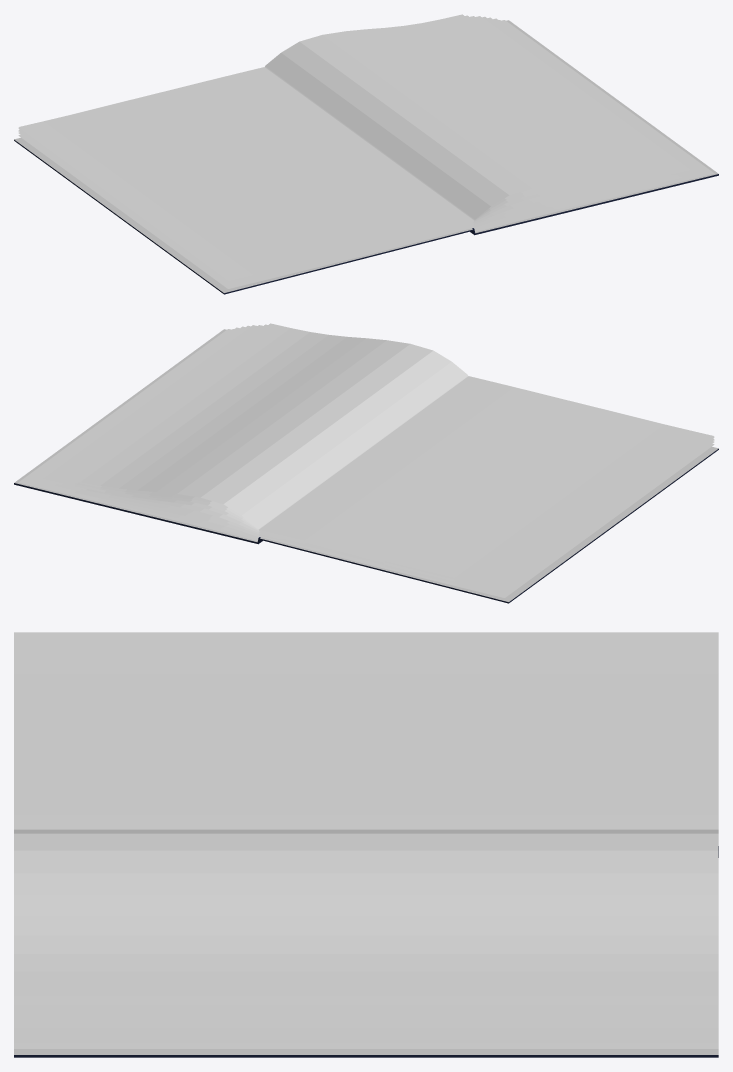
The model's file is book2.dae.
3 renders of one model, top to bottom at view 1: azimuth 30°, elevation 25°; view 2: azimuth 150°, elevation 25°; view 3: azimuth 270°, elevation 25°, orthographic. The views are drawn at different scales.
Parts seen in each view (by area): view 1: Pages 11+12, Pages 13+14, Cover Front, Page 16, Page 17, Page 20, Page 15, Cover Back, Page 19, Page 18, Page 22, Page 21 (+5 smaller); view 2: Pages 11+12, Pages 13+14, Cover Front, Page 16, Page 17, Page 20, Page 15, Cover Back, Page 19, Page 18, Page 22, Page 21 (+5 smaller); view 3: Pages 11+12, Pages 13+14, Page 15, Page 16, Page 20, Cover Back, Page 17, Page 18, Page 19, Page 21, Page 22.
Part boxes in pixels (box(x1,y1,x2,y2)): Pages 11+12: box(18, 67, 473, 280); Pages 13+14: box(265, 14, 672, 219); Cover Front: box(14, 137, 473, 294); Page 16: box(265, 16, 683, 220); Page 17: box(269, 16, 689, 221); Page 20: box(472, 18, 705, 227); Page 15: box(265, 15, 677, 220); Cover Back: box(474, 20, 718, 234); Page 19: box(473, 17, 699, 224); Page 18: box(473, 16, 694, 223); Page 22: box(475, 20, 714, 232); Page 21: box(473, 20, 709, 230); Pages 11+12: box(259, 376, 714, 589); Pages 13+14: box(60, 323, 467, 528); Cover Front: box(259, 446, 718, 603); Page 16: box(49, 325, 467, 529); Page 17: box(43, 325, 463, 530); Page 20: box(27, 327, 260, 536); Page 15: box(55, 324, 467, 529); Cover Back: box(14, 329, 257, 543); Page 19: box(33, 326, 259, 533); Page 18: box(38, 325, 259, 532); Page 22: box(18, 329, 257, 541); Page 21: box(23, 329, 259, 539); Pages 11+12: box(14, 632, 718, 829); Pages 13+14: box(14, 829, 718, 988); Page 15: box(14, 988, 718, 996); Page 16: box(14, 996, 718, 1004); Page 20: box(14, 1028, 718, 1036); Cover Back: box(14, 1049, 718, 1057); Page 17: box(14, 1005, 718, 1012); Page 18: box(14, 1012, 718, 1019); Page 19: box(14, 1020, 718, 1027); Page 21: box(14, 1036, 718, 1043); Page 22: box(14, 1043, 718, 1048).
Bounding box in the file's own units: 10.54 × 0.6613 × 7.76.
